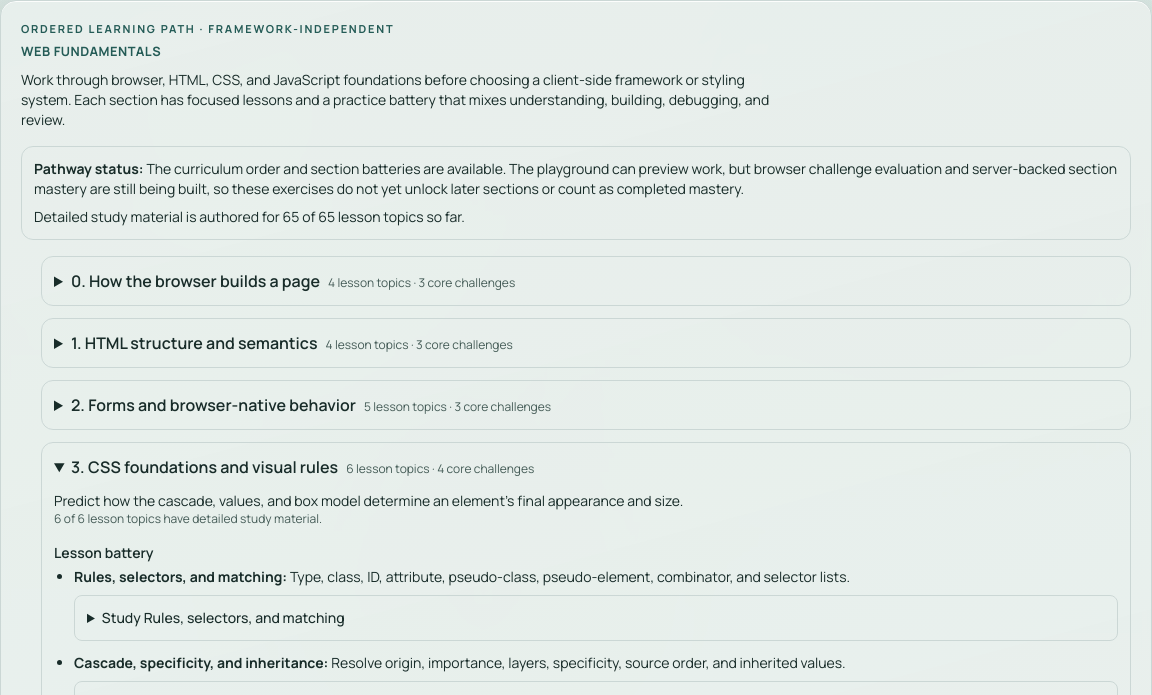
Test: renders CSS foundations lessons in the accessible lesson format
Expected: the text "6 of 6 lesson topics have detailed study material." is shown, left=54, top=510, right=322, bottom=527
Step 1. Click the heading "Study Rules, selectors, and matching" → (223, 618), box left=102, top=608, right=345, bottom=627
(page scrolled)
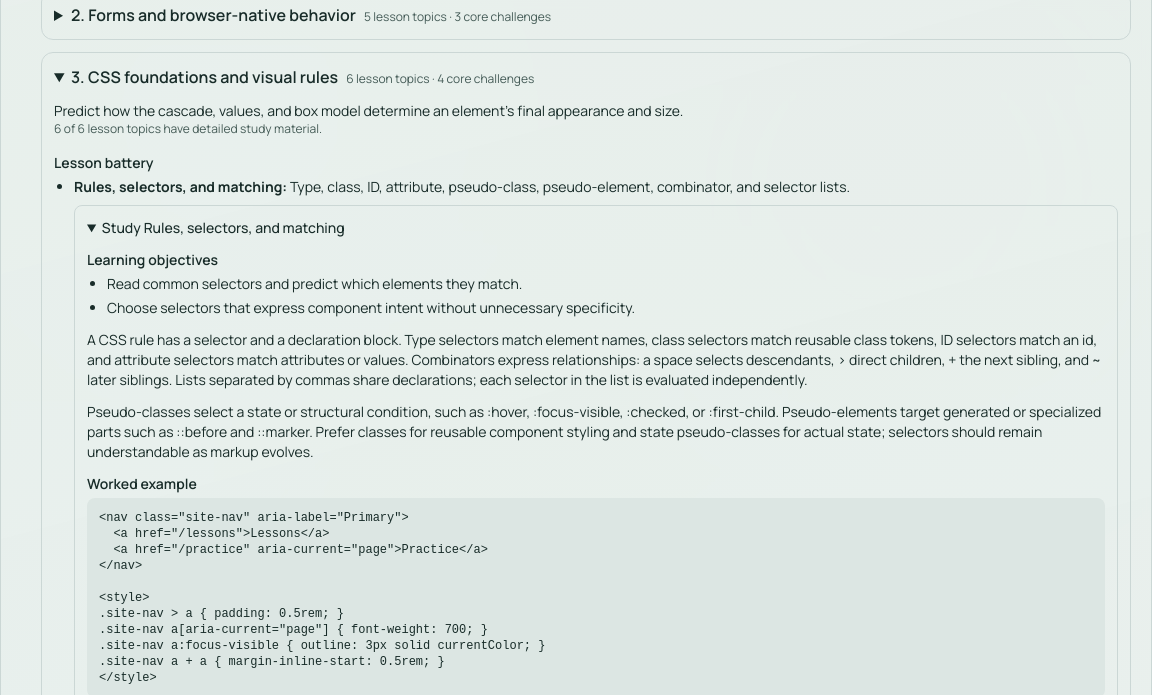
Expected: the text "A CSS rule has a selector and a declaration block" is shown, left=87, top=330, right=1101, bottom=389
